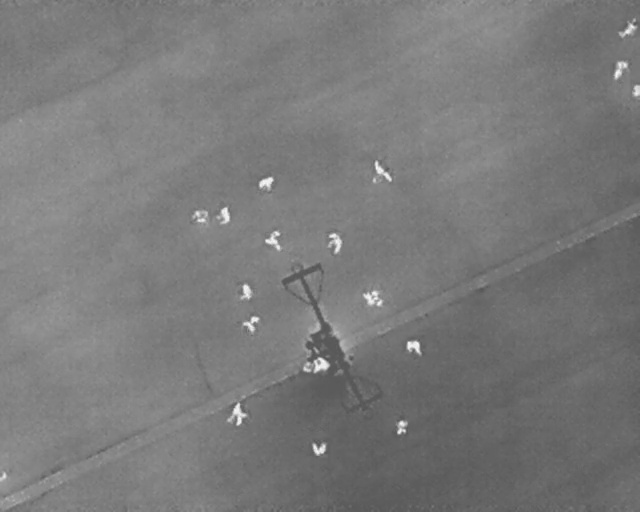Person: (368, 156, 395, 185), (615, 16, 639, 40), (240, 311, 264, 334), (263, 227, 283, 253), (227, 402, 247, 427), (360, 289, 384, 307), (327, 232, 342, 257), (216, 205, 231, 226), (257, 176, 275, 193), (406, 340, 423, 358), (190, 207, 208, 223), (614, 60, 629, 79), (314, 357, 330, 373), (311, 441, 327, 456), (395, 418, 408, 435), (241, 283, 252, 299), (631, 84, 640, 96)
